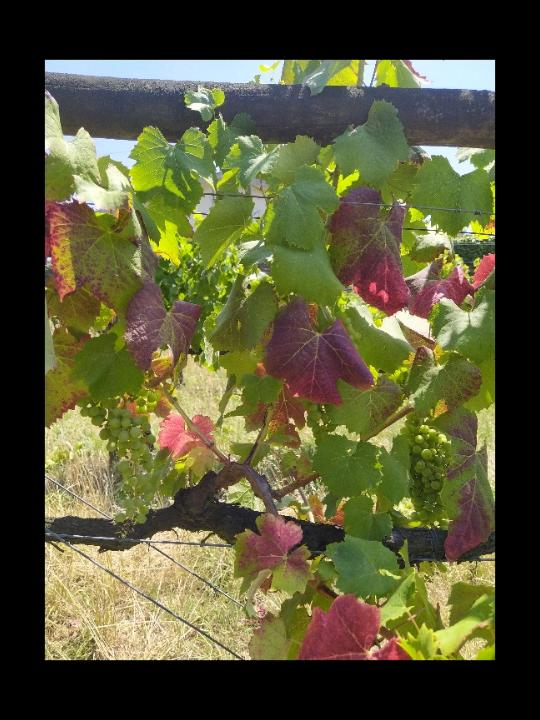grape: (76, 391, 167, 530), (399, 418, 455, 528)
